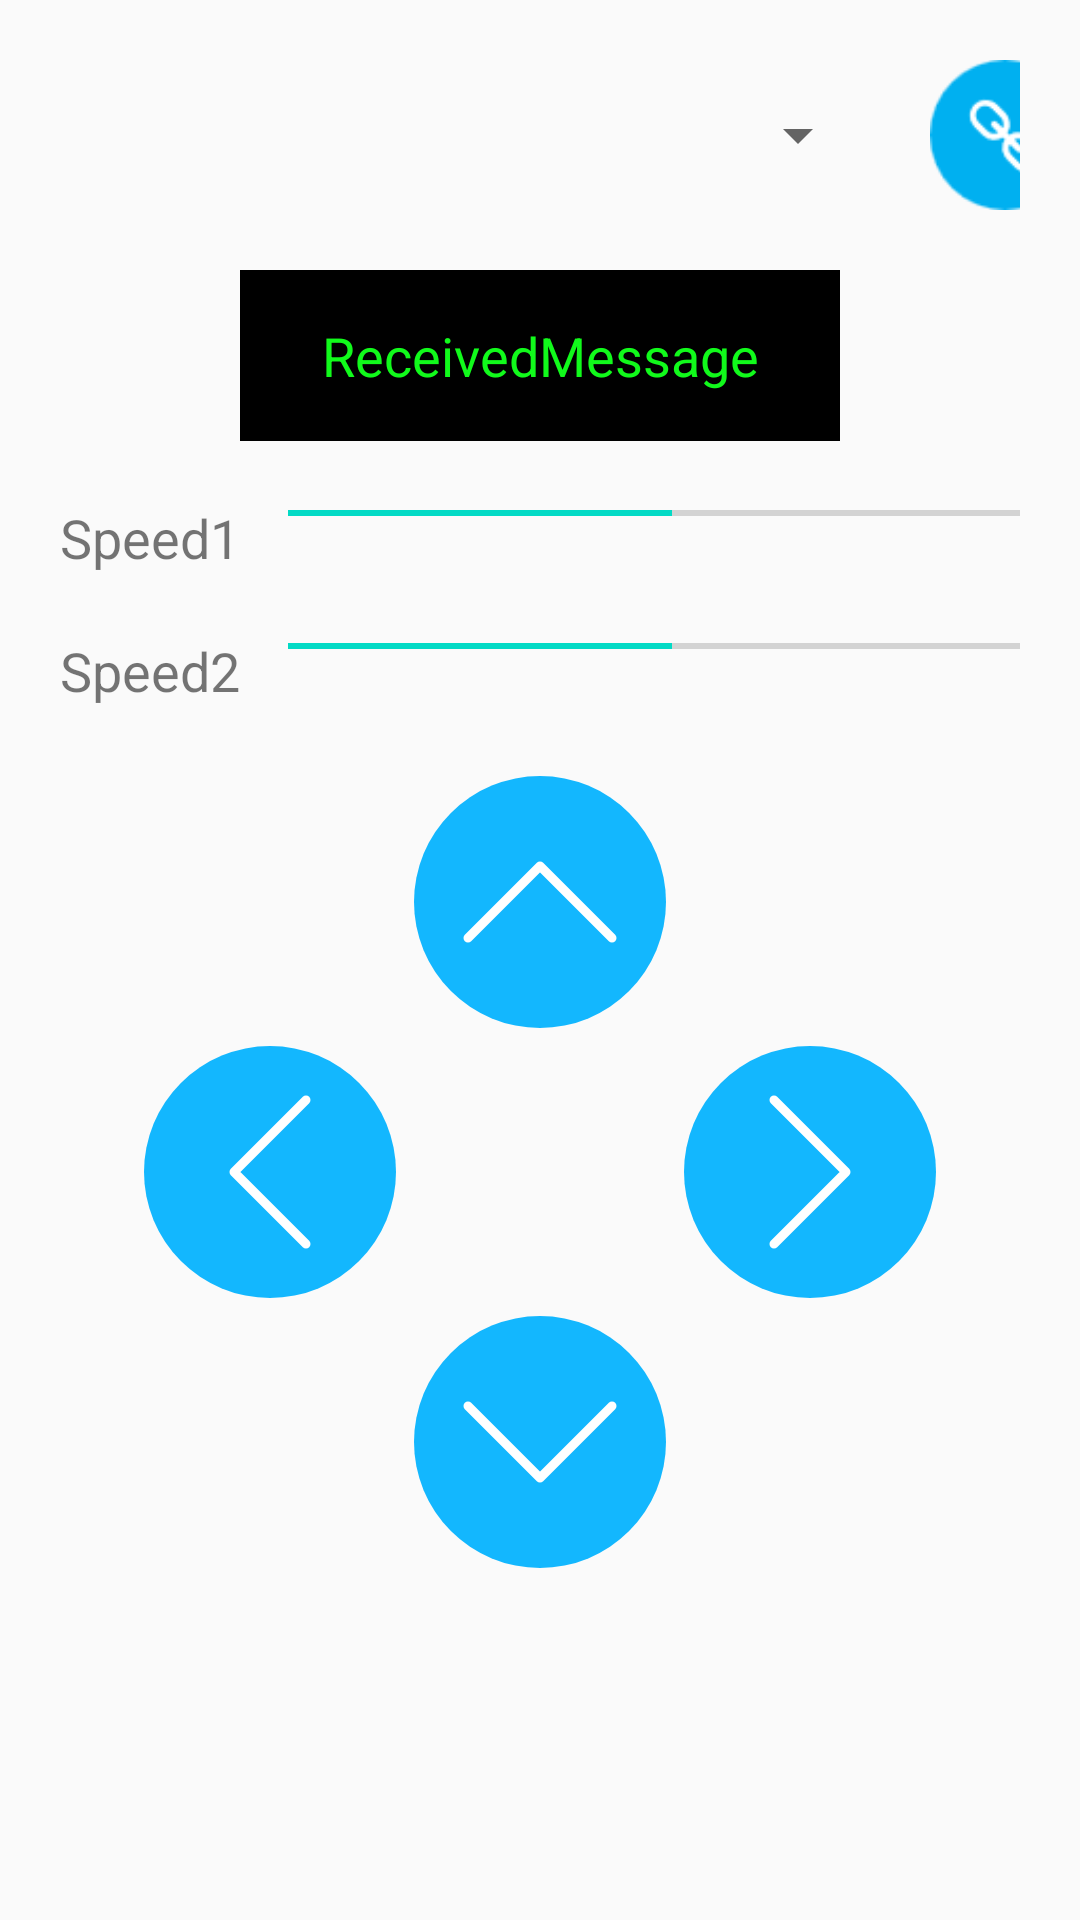

Where to tap for icons on this 1080px x 1920px app screen, as point (x, y):
custom right: point (810, 1172)
down: point (540, 1442)
left: point (270, 1172)
